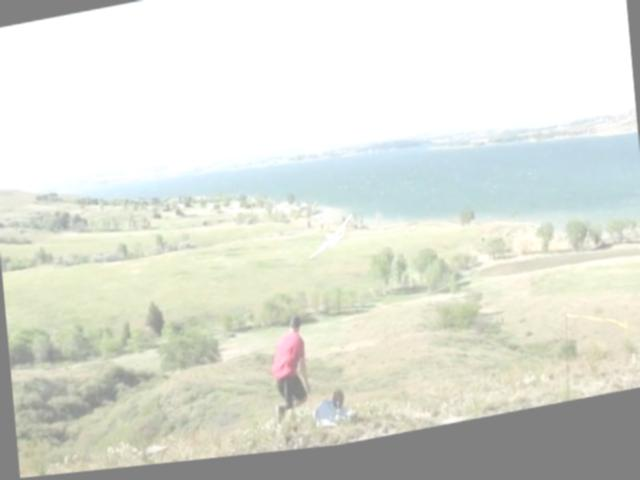iha: (304, 219, 354, 265)
